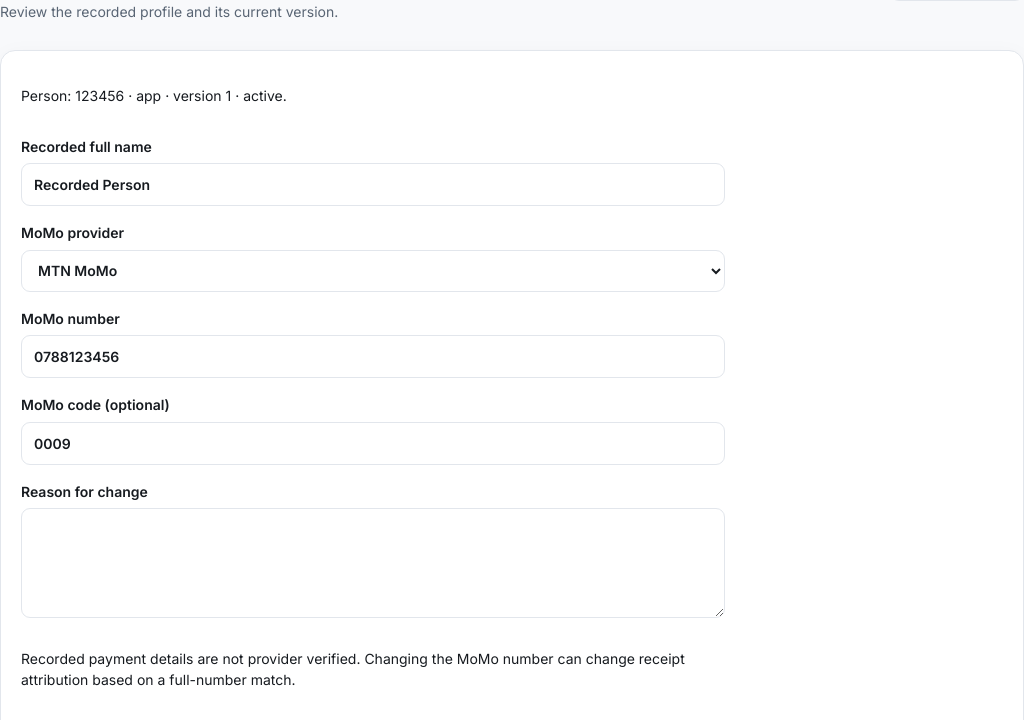
Test case: legacy person profile editing page › requires a current person, review and confirmation and changes only profile fields
Replace the text in the field labelled "Recorded full name" with "Updated Person" at (373, 185), box [21,163,725,206]
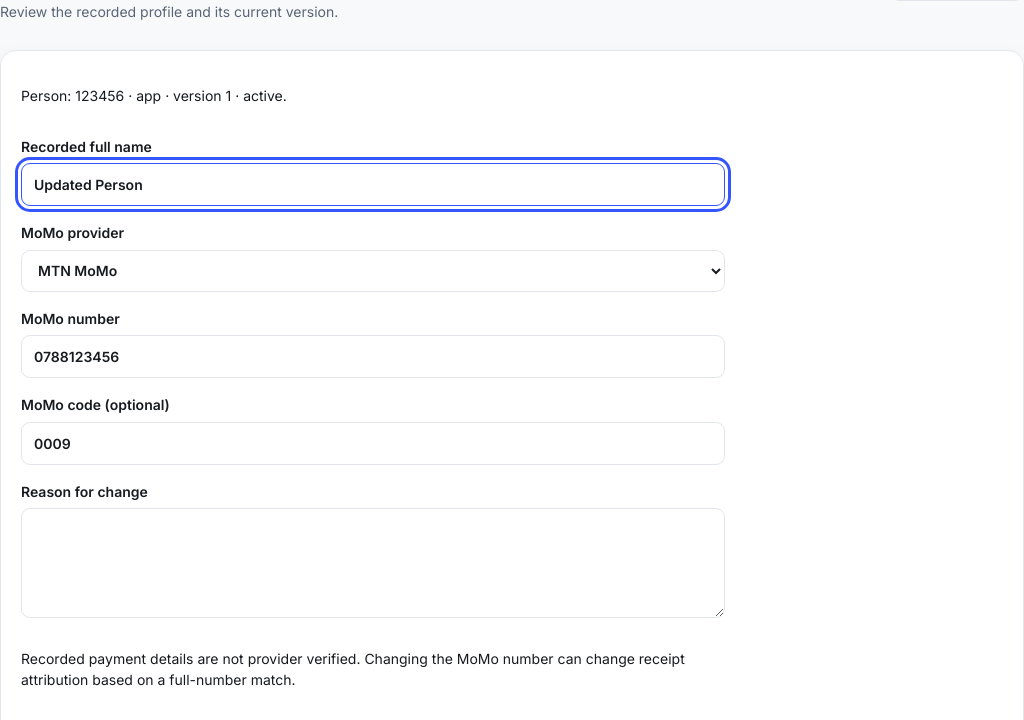
Type "Review recorded profile" into the text box labelled "Reason for change" at (373, 563), box [21,508,725,618]
(page scrolled)
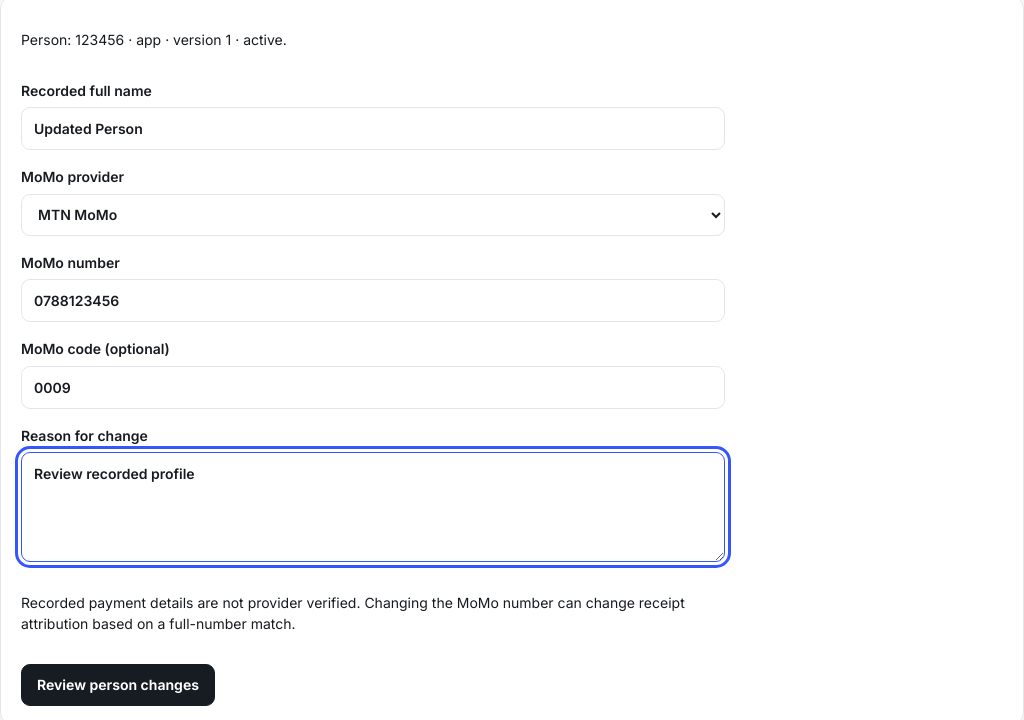
Expected: the text "Changing the MoMo number can change receipt attribution" is shown, [21,594,685,632]
Click the button "Review person changes" at (118, 685), box [21,664,215,706]
(page scrolled)
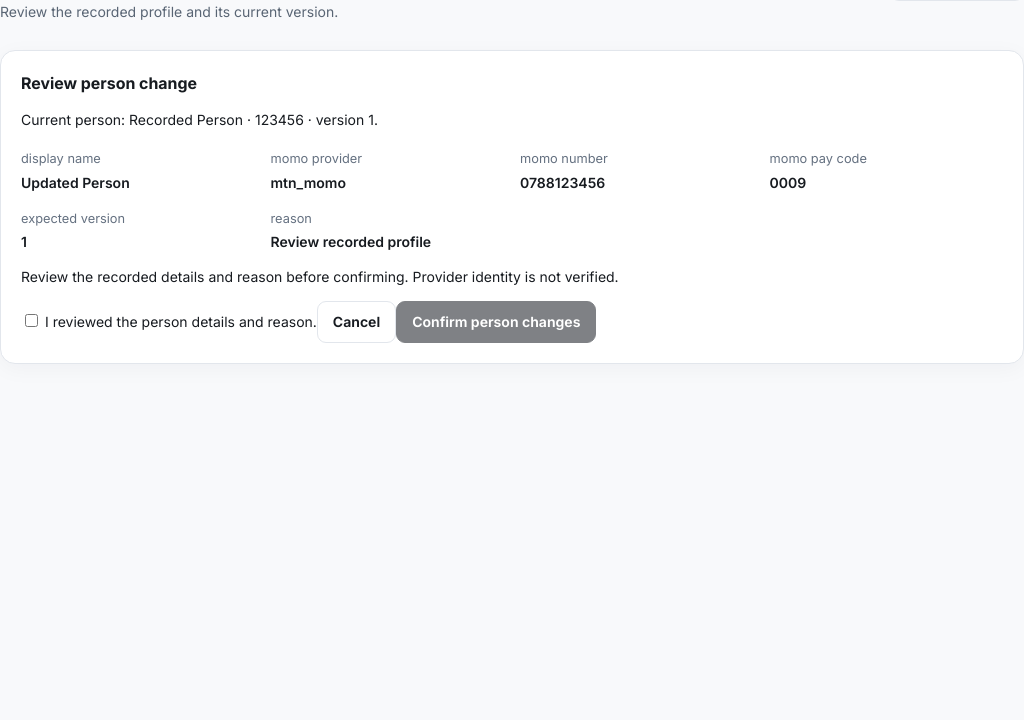
Result: the button "Confirm person changes" is disabled at [396,301,596,343]
Click the checkbox labelled "I reviewed the person details and reason." at (32, 321), box [25,314,38,328]
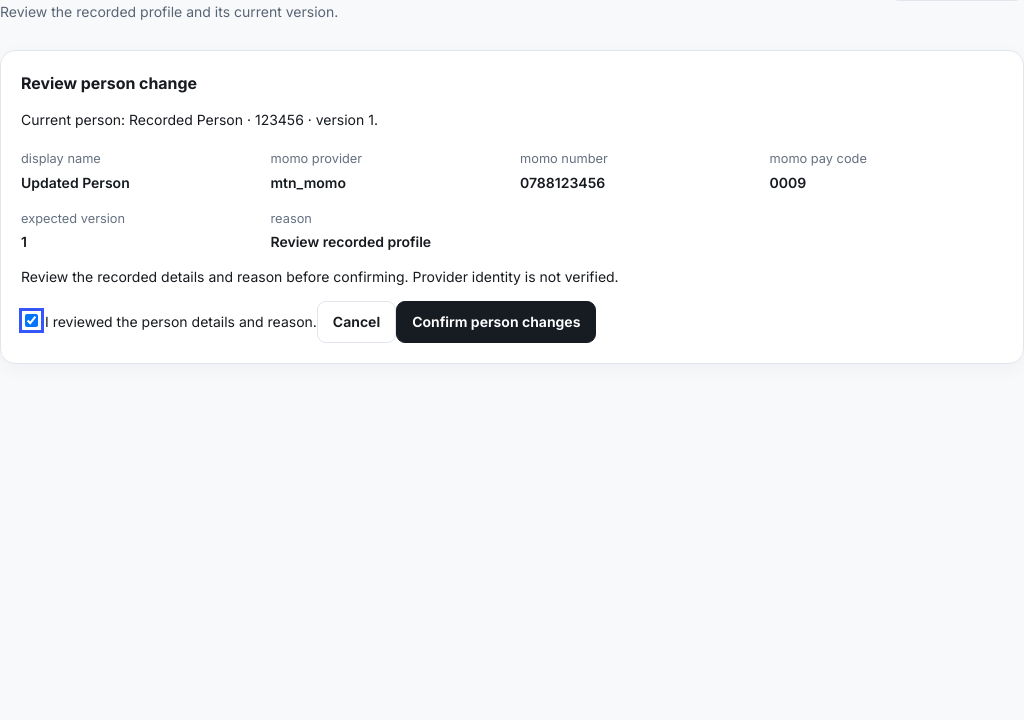
Click the button "Confirm person changes" at (496, 322), box [396,301,596,343]
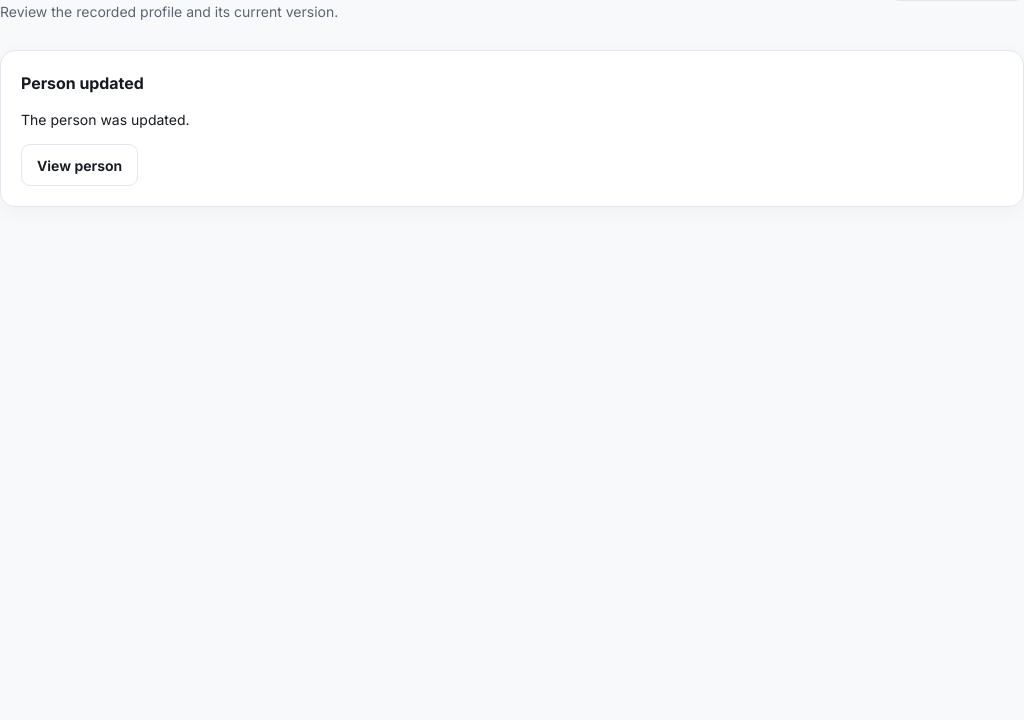
Result: the text "The person was updated." is shown at [21,111,190,128]
